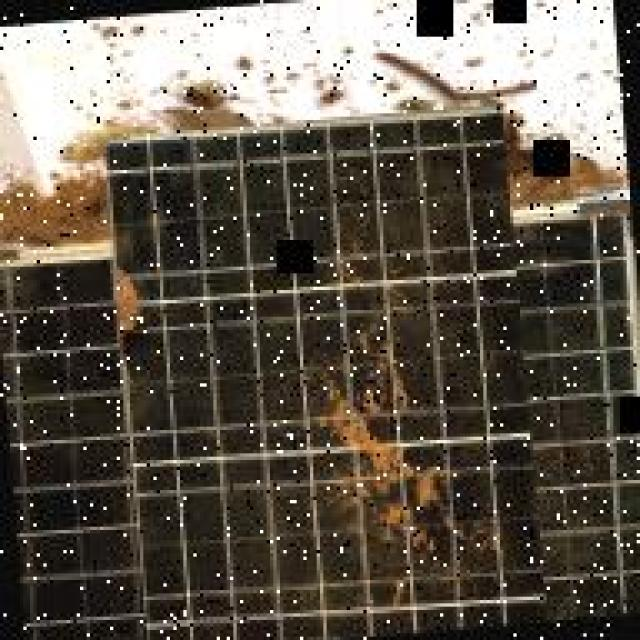dust-solar-panel: (0, 114, 640, 640)
